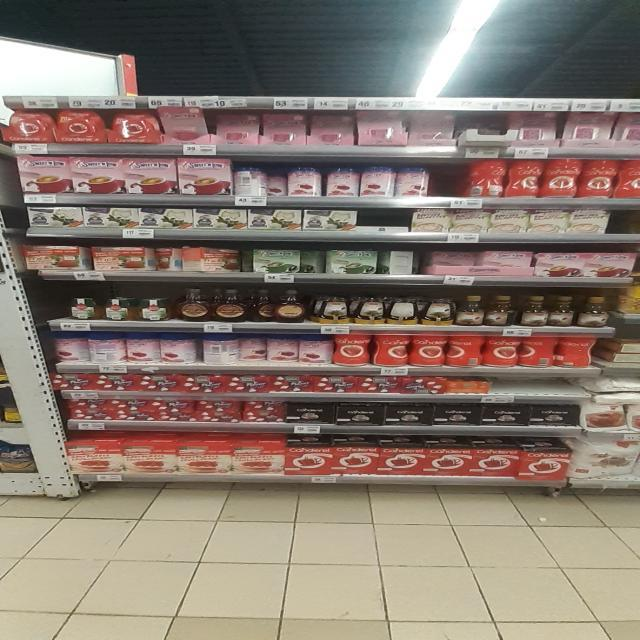produto: (294, 433, 566, 483), (66, 422, 286, 481), (52, 323, 331, 369), (18, 148, 232, 200), (4, 97, 212, 149), (335, 328, 590, 370), (289, 397, 580, 431), (474, 151, 638, 201)
